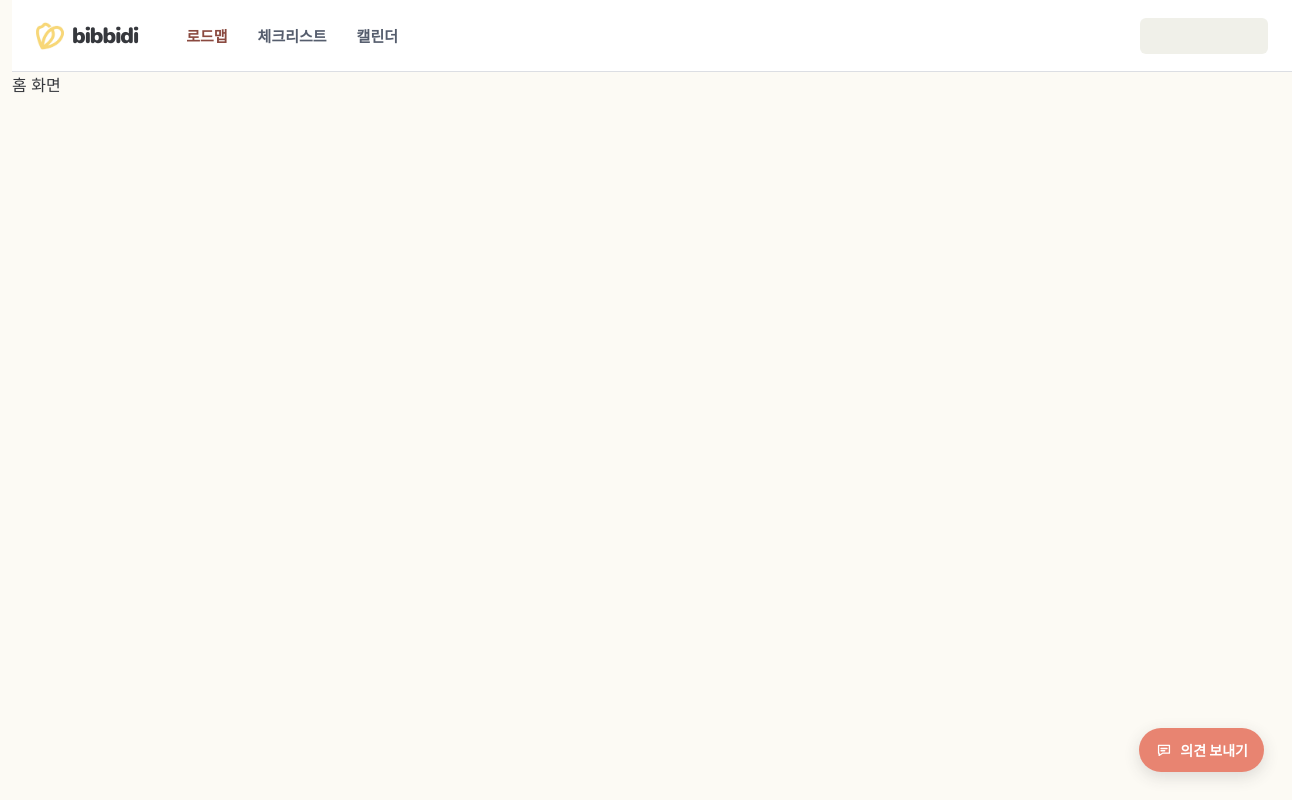
ServiceLayout › 인증 확인 중에도 캘린더 링크로 이동한다
Click the link "캘린더" at coordinates (377, 36), box [357,27,398,46]
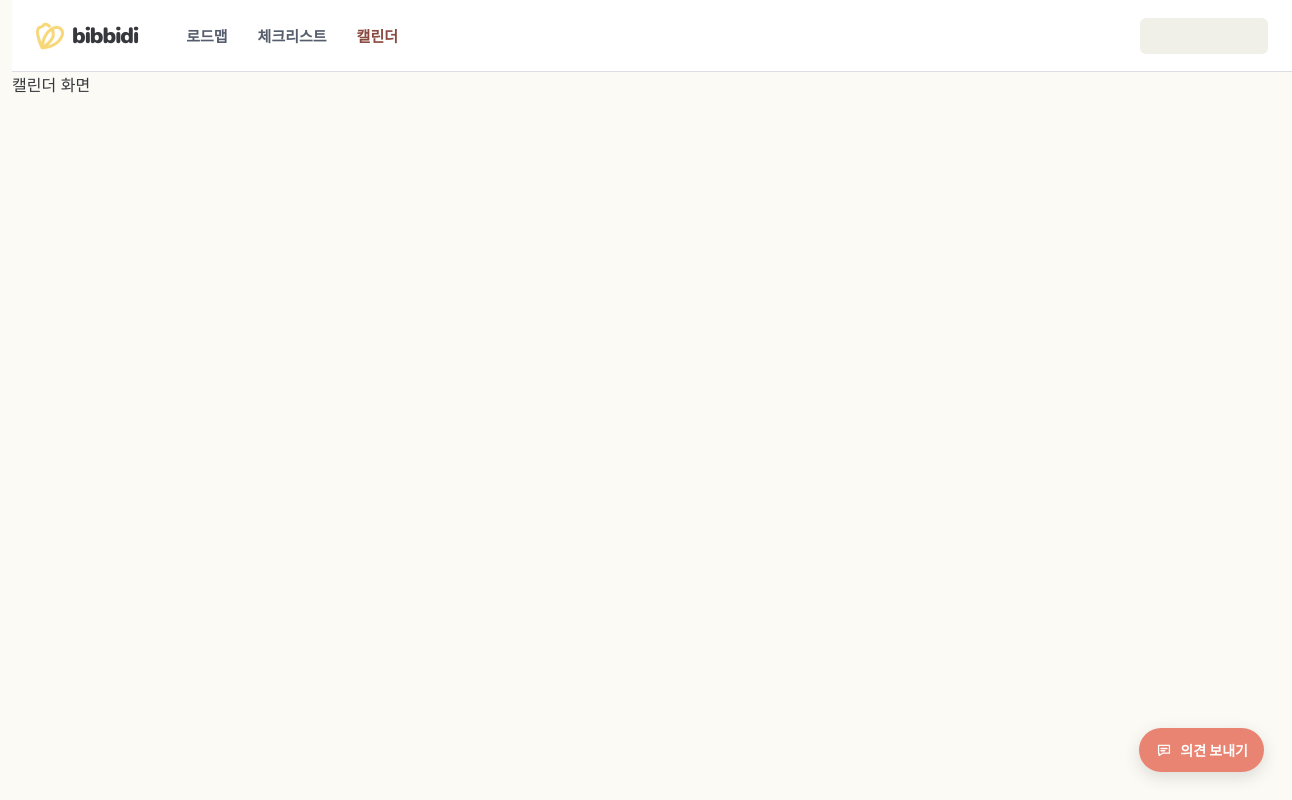
Check: the text "캘린더 화면" is shown, box [12,75,90,95]
